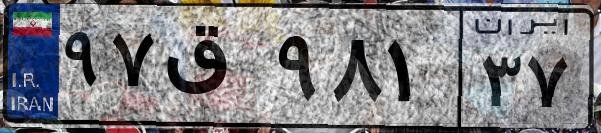1: (385, 28, 445, 110)
3: (475, 38, 525, 113)
7: (525, 38, 570, 115), (110, 28, 158, 98)
8: (330, 28, 385, 110)
9: (270, 28, 330, 110), (57, 26, 110, 100)
ق: (158, 20, 270, 120)
